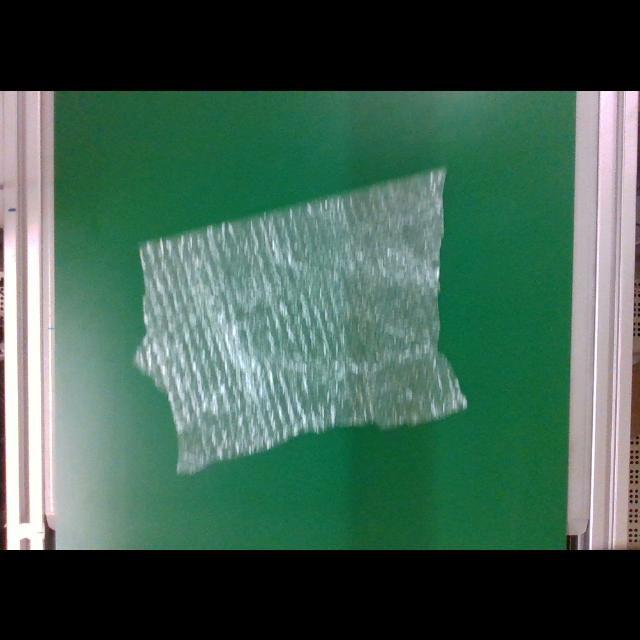scrap_plastic: (128, 163, 468, 473)
